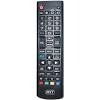remote control: (33, 0, 69, 100)
